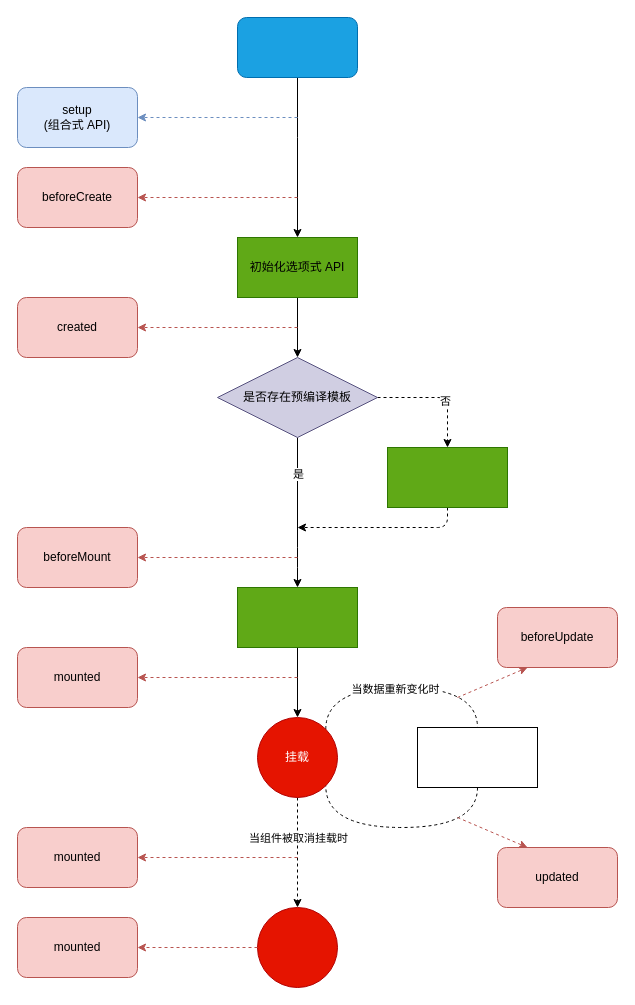
The diagram is 635 pixels wide and 1005 high, and some of its shapes have lost their labels. Each missing label, with the centre of its shape:
初始渲染 创建和插入DOM节点: point (297, 617)
即时编译模板: point (447, 477)
取消挂载: point (297, 947)
渲染器遇到组件: point (297, 47)
重新渲染并打补丁: point (477, 757)
